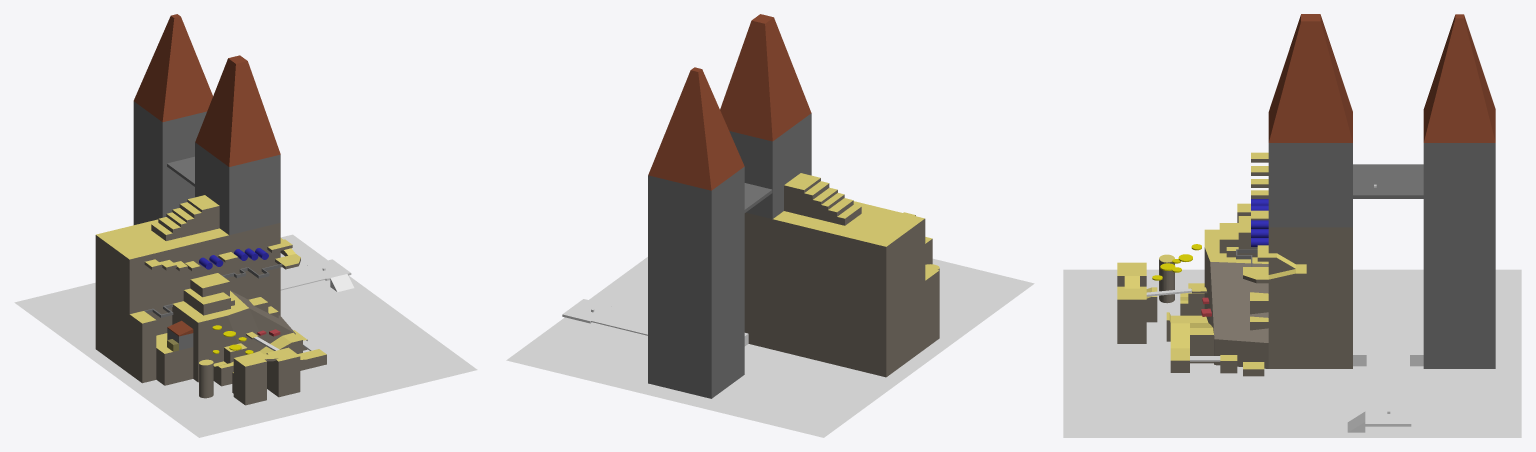
File: pbfort.glb
The picture shows the model from 3 angles, left to right: view 1: azimuth 30°, elevation 25°; view 2: azimuth 150°, elevation 25°; view 3: azimuth 270°, elevation 25°; orthographic projection. The views are drawn at different scales.
Parts seen in each view (by area): view 1: Plane-col, Cube.001-col.003, Cube.005-col, Cube.002, Cube-col.009, Cube.003, Cube.006-col, Cube.003-col.003, Cube.002-col.001, Cube.002-col.004, Cube.002-col.008, Cube.001-col.005 (+9 smaller); view 2: Cube.001-col.003, Plane-col, Cube.005-col, Cube.002, Cube.003, Cube-col.009, Cube.003-col.003, Cube.002-col, Cube.001-col.007, Cube-col, Cube; view 3: Plane-col, Cube.005-col, Cube.001-col.003, Cube.002, Cube-col.009, Cube.003, Cube.006-col, Cube, Cube.002-col, Cube.002-col.008, Cube.004-col, Cube.009-col (+8 smaller).
Part boxes in pixels (x1,y1,x2,y2): Plane-col: (14,234,477,437); Cube.001-col.003: (95,219,280,373); Cube.005-col: (133,101,206,224); Cube.002: (195,55,280,166); Cube-col.009: (195,142,280,235); Cube.003: (133,14,212,122); Cube.006-col: (172,290,295,382); Cube.003-col.003: (129,311,156,383); Cube.002-col.001: (232,353,266,405); Cube.002-col.004: (156,333,193,385); Cube.002-col.008: (266,347,300,397); Cube.001-col.005: (183,288,230,315); Cube.001-col.003: (744,201,925,377); Plane-col: (506,257,1034,437); Cube.005-col: (648,167,744,398); Cube.002: (720,14,811,141); Cube.003: (648,67,744,190); Cube-col.009: (729,113,811,218); Cube.003-col.003: (925,267,939,348); Cube.002-col: (591,306,647,335); Cube.001-col.007: (784,173,820,215); Cube-col: (562,299,611,323); Cube: (744,183,772,212); Plane-col: (1063,269,1521,437); Cube.005-col: (1423,143,1495,368); Cube.001-col.003: (1268,227,1352,368); Cube.002: (1268,14,1352,142); Cube-col.009: (1268,143,1352,227); Cube.003: (1423,14,1495,142); Cube.006-col: (1204,229,1268,368); Cube: (1353,164,1423,198); Cube.002-col: (1366,355,1409,408); Cube.002-col.008: (1117,286,1146,343); Cube.004-col: (1353,339,1423,366); Cube.009-col: (1166,312,1189,372).
Size of what is drawn, in the model's own units: 293 by 273 by 337.
